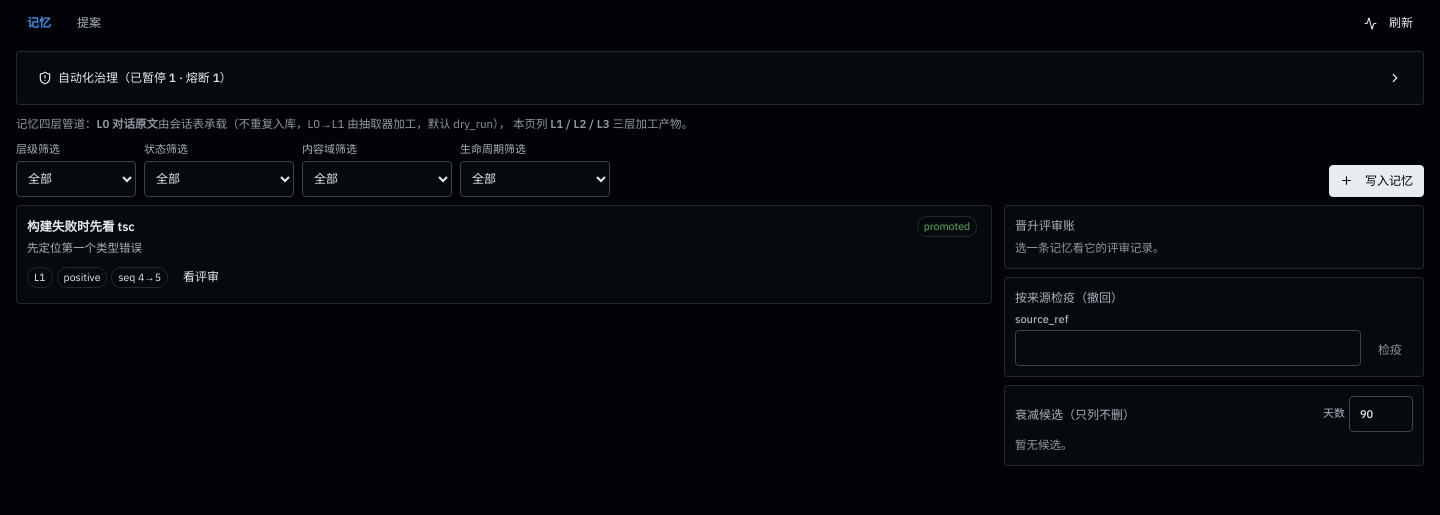
Test case: 记忆 tab › 看评审 → 拉 promotion_reviews 并渲染四要素
The image size is (1440, 515).
Expected: the text "构建失败时先看 tsc" is shown, [27,216,135,237]
Step 1. Click the button "看评审" → (201, 277), box [172,261,230,293]
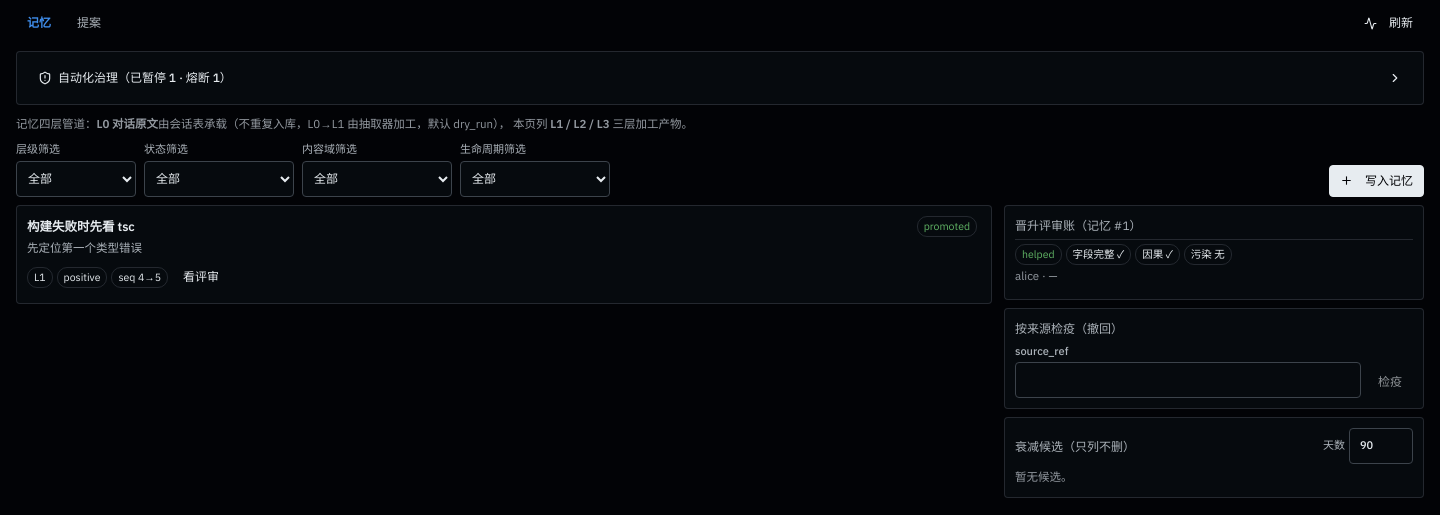
Expected: the text "helped" is shown, [1015,244,1062,265]
Expected: the text "字段完整 ✓" is shown, [1066,244,1131,265]
